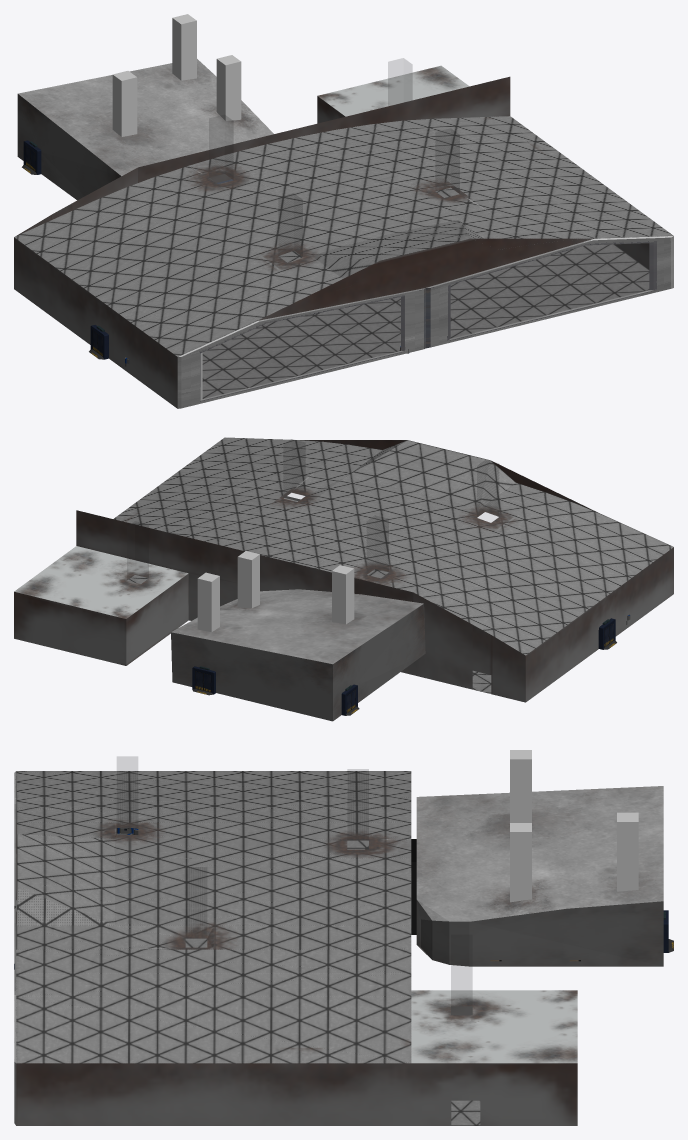
File: SalaMenu1.obj
3 renders of one model, top to bottom at view 1: azimuth 30°, elevation 25°; view 2: azimuth 150°, elevation 25°; view 3: azimuth 270°, elevation 25°, orthographic. The views are drawn at different scales.
Parts seen in each view (by area): view 1: Nave.002_Borde.002_Cube.002, Sala_Lanzamiento_Cube.002, DoorFrame.003_Cube.001; view 2: Nave.002_Borde.002_Cube.002, Sala_Lanzamiento_Cube.002, DoorFrame.001_Cube.001, DoorFrame.003_Cube.001, DoorFrame.002_Cube.001; view 3: Nave.002_Borde.002_Cube.002, Sala_Lanzamiento_Cube.002.
Boxes of the visible parts, x1=… form: Nave.002_Borde.002_Cube.002: x1=14, y1=58, x2=673, y2=408; Sala_Lanzamiento_Cube.002: x1=17, y1=14, x2=273, y2=200; DoorFrame.003_Cube.001: x1=89, y1=325, x2=108, y2=359; Nave.002_Borde.002_Cube.002: x1=14, y1=437, x2=673, y2=702; Sala_Lanzamiento_Cube.002: x1=171, y1=551, x2=425, y2=721; DoorFrame.001_Cube.001: x1=192, y1=666, x2=215, y2=695; DoorFrame.003_Cube.001: x1=598, y1=618, x2=616, y2=649; DoorFrame.002_Cube.001: x1=341, y1=684, x2=359, y2=715; Nave.002_Borde.002_Cube.002: x1=14, y1=757, x2=577, y2=1125; Sala_Lanzamiento_Cube.002: x1=411, y1=750, x2=663, y2=966.
Size of the model in its own units: 142 by 38.26 by 134.
Materials: 40 (33 with a texture image).
